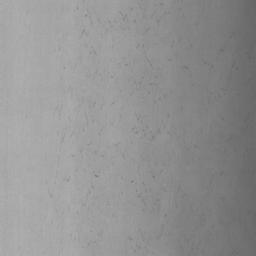Silk spot: (131, 160, 167, 217), (74, 0, 136, 31), (134, 56, 166, 104), (132, 114, 176, 141), (140, 0, 161, 35), (72, 142, 104, 158), (80, 29, 97, 56), (128, 229, 146, 252)
